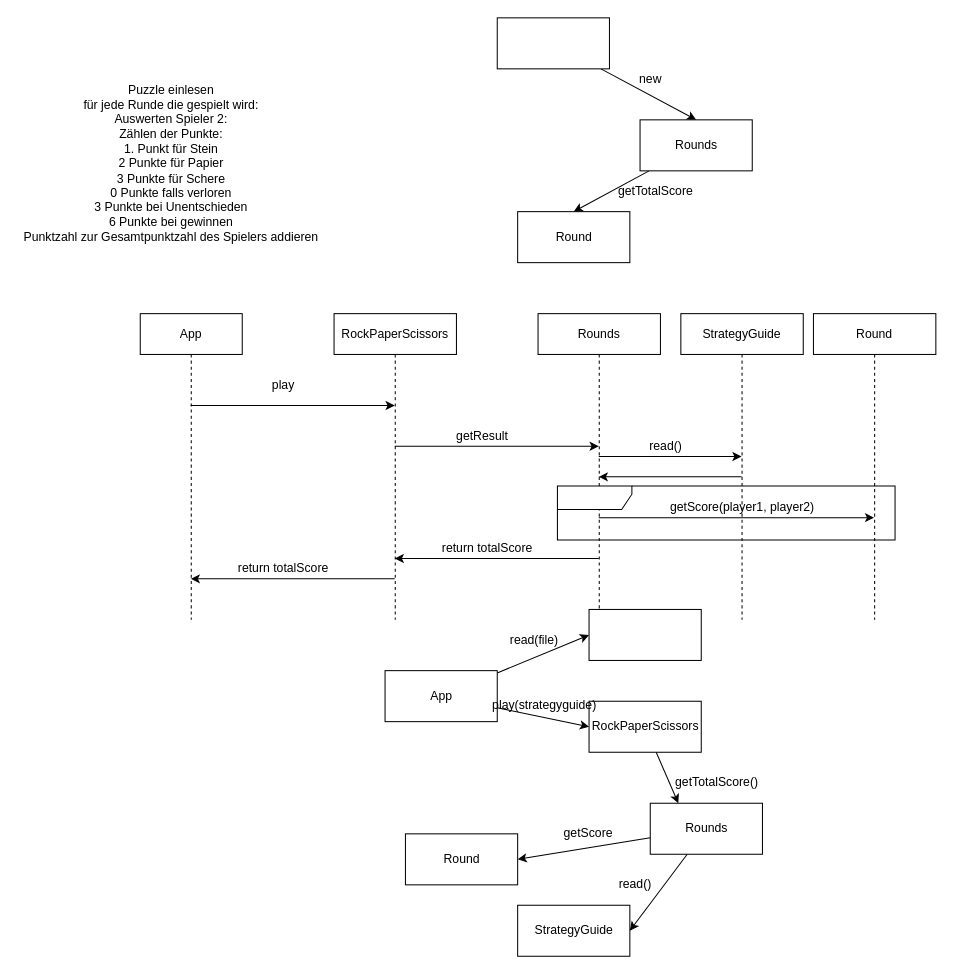
The diagram is 954 pixels wide and 974 high, and some of its shapes have lost their labels. The shapes that lost their labels are listed below. From the top down, each one's box as (x1, y1, x2, y2) in pixels, then its label:
(496, 17, 609, 69): PuzzleReader
(556, 485, 895, 540): foreach round
(588, 608, 701, 660): StrategyGuideReader
